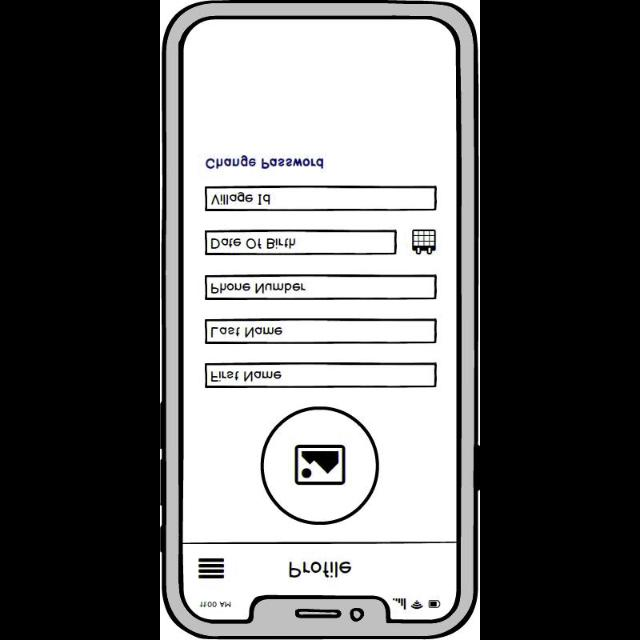icon: (411, 228, 437, 256), (198, 558, 226, 578)
image: (260, 405, 380, 525)
input: (205, 184, 437, 212), (205, 362, 437, 388), (205, 318, 437, 344), (205, 274, 437, 300), (205, 228, 397, 256)
text: (206, 153, 324, 169), (288, 560, 352, 578)
toolbar: (184, 543, 456, 593)
